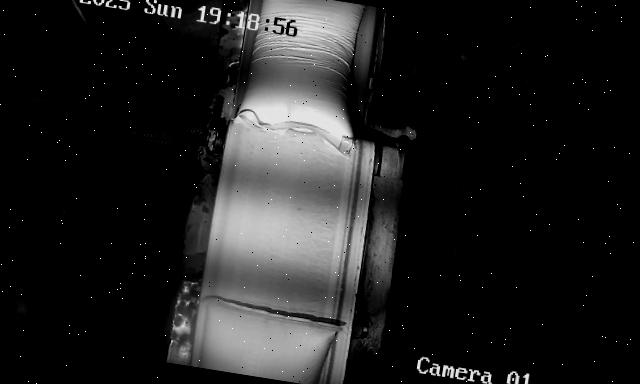bag: (230, 0, 377, 157), (196, 295, 343, 384)
